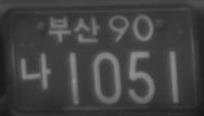0: (93, 51, 121, 105), (131, 13, 154, 42)
1: (159, 50, 188, 103), (59, 52, 87, 105)
5: (127, 50, 155, 104)
9: (107, 14, 130, 43)
나: (19, 52, 51, 91)
부산_O: (48, 15, 100, 43)
